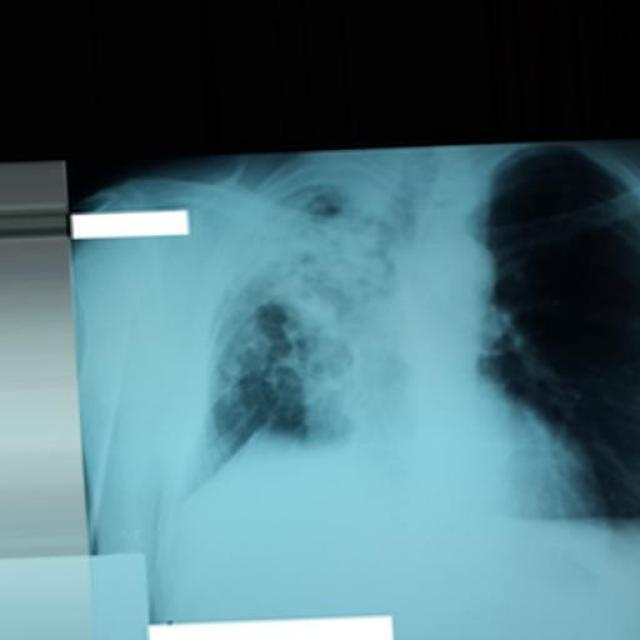tuberculosis: (74, 141, 640, 640)
